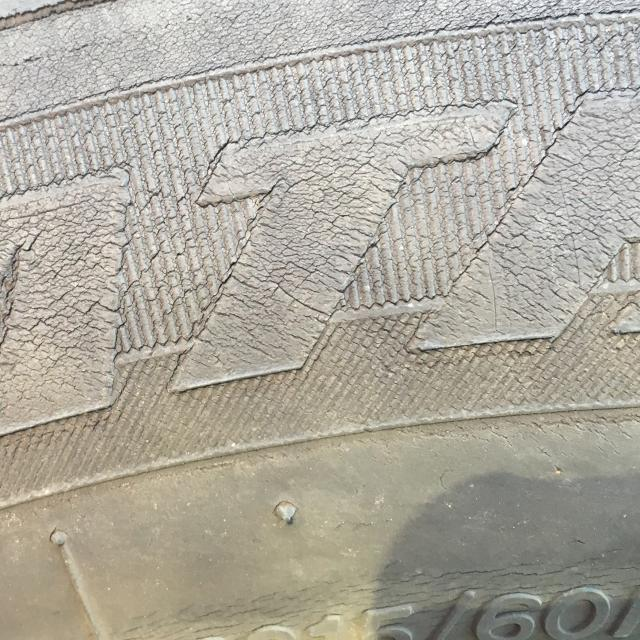Cracks: (0, 0, 640, 456), (110, 538, 640, 640)
